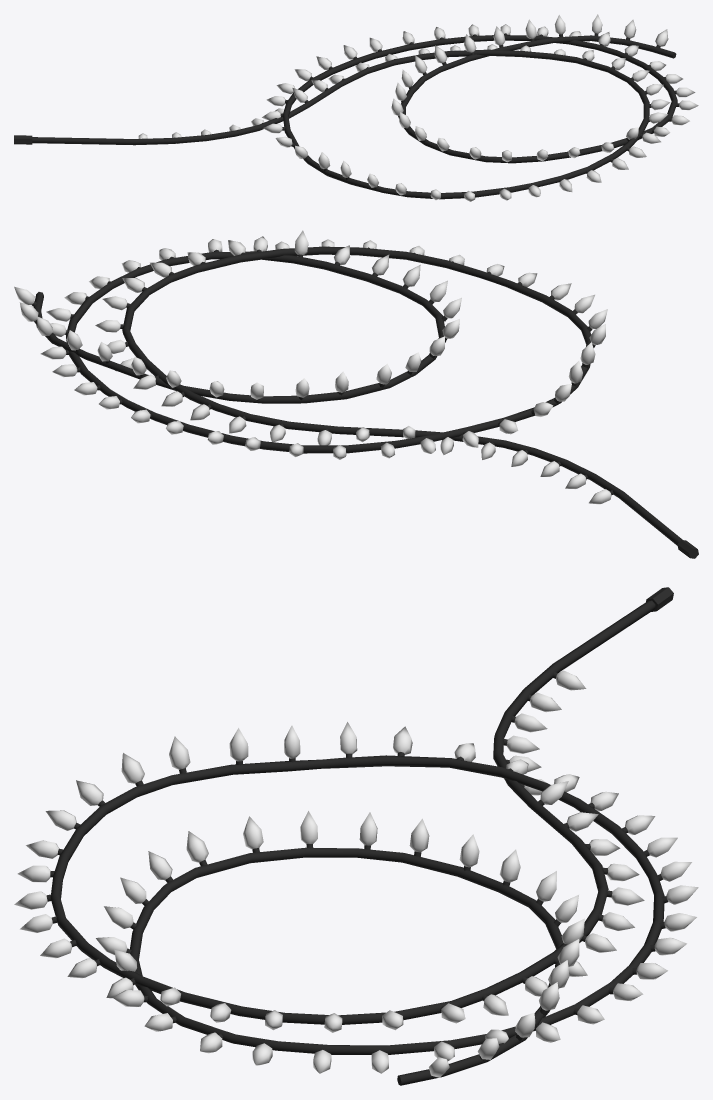
File: ChristmasChainLight_04.fbx
The picture shows the model from 3 angles, top to bottom: view 1: azimuth 30°, elevation 25°; view 2: azimuth 150°, elevation 25°; view 3: azimuth 270°, elevation 25°; orthographic projection. The views are drawn at different scales.
Visible parts, largest first — view 1: ChristmasChainLight_04; view 2: ChristmasChainLight_04; view 3: ChristmasChainLight_04.
Boxes of the visible parts, box(x1,y1,x2,y2) form: ChristmasChainLight_04: box(14, 14, 698, 201); ChristmasChainLight_04: box(14, 230, 698, 558); ChristmasChainLight_04: box(14, 587, 698, 1085).
Size of the model in its own units: 2.14 by 0.1072 by 1.25.
